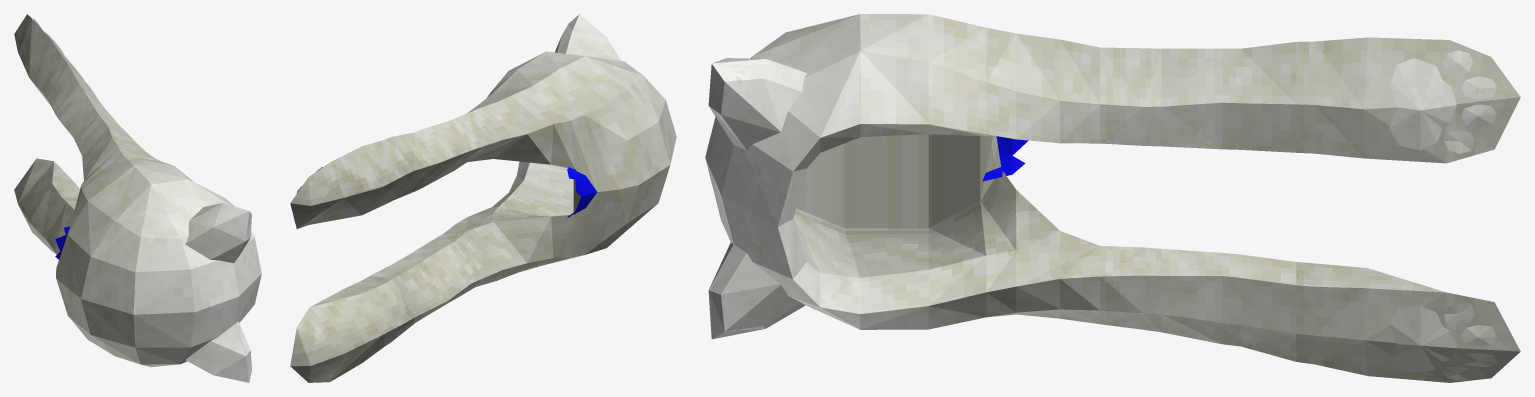
Rendered from options528.obj.
The picture shows the model from 3 angles, left to right: view 1: azimuth 30°, elevation 25°; view 2: azimuth 150°, elevation 25°; view 3: azimuth 270°, elevation 25°; orthographic projection. The views are drawn at different scales.
Visible parts, largest first — view 1: options528; view 2: options528; view 3: options528.
Boxes of the visible parts, left/top/right/bottom form: options528: left=14, top=14, right=261, bottom=382; options528: left=290, top=14, right=676, bottom=382; options528: left=705, top=14, right=1520, bottom=382.
Size of the model in its own units: 0.5292 by 0.6638 by 1.43.
Materials: 2 (1 with a texture image).
